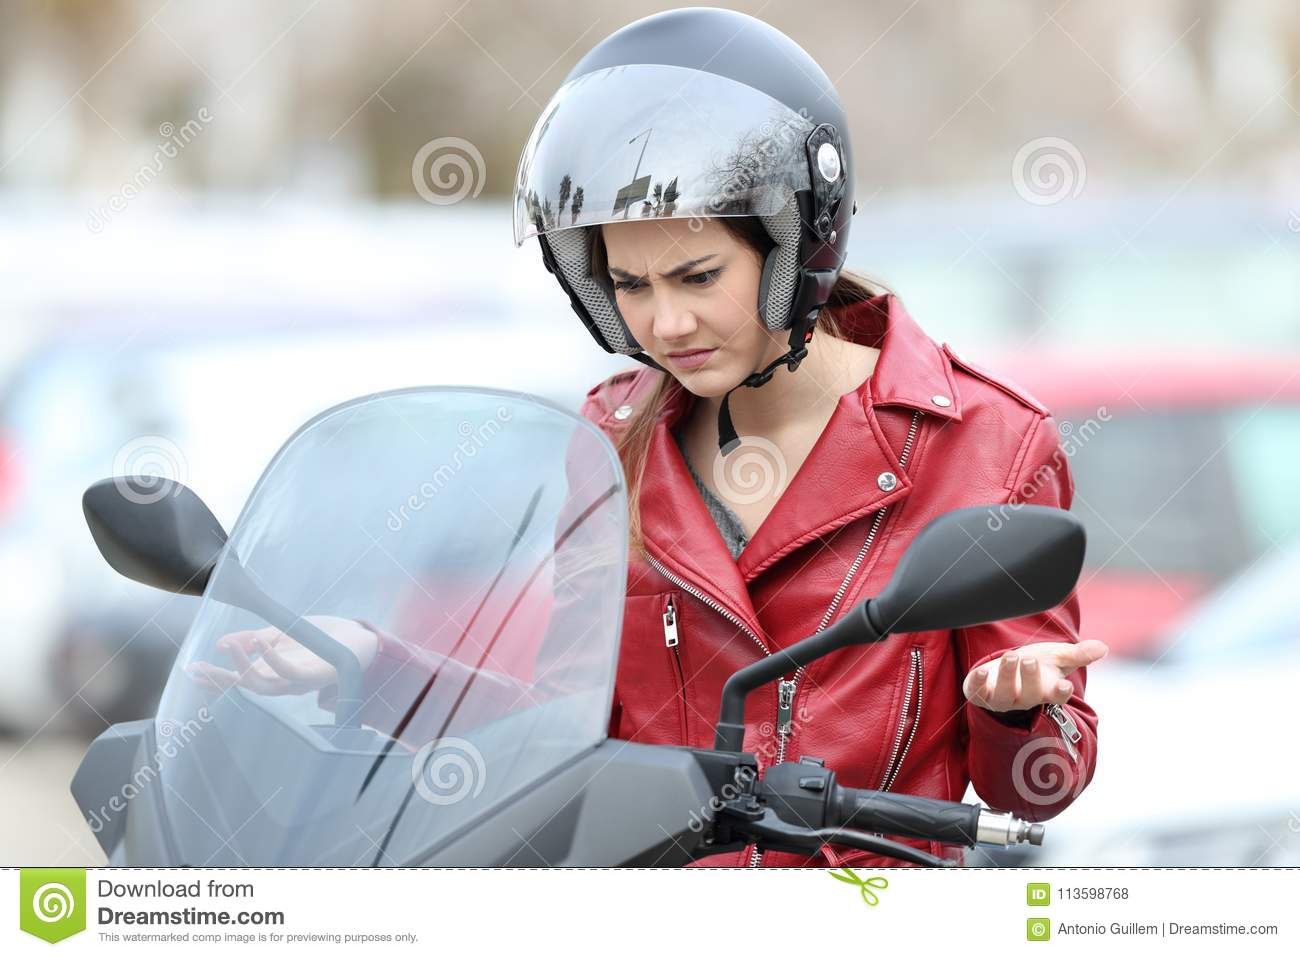helmet: (535, 7, 857, 338)
